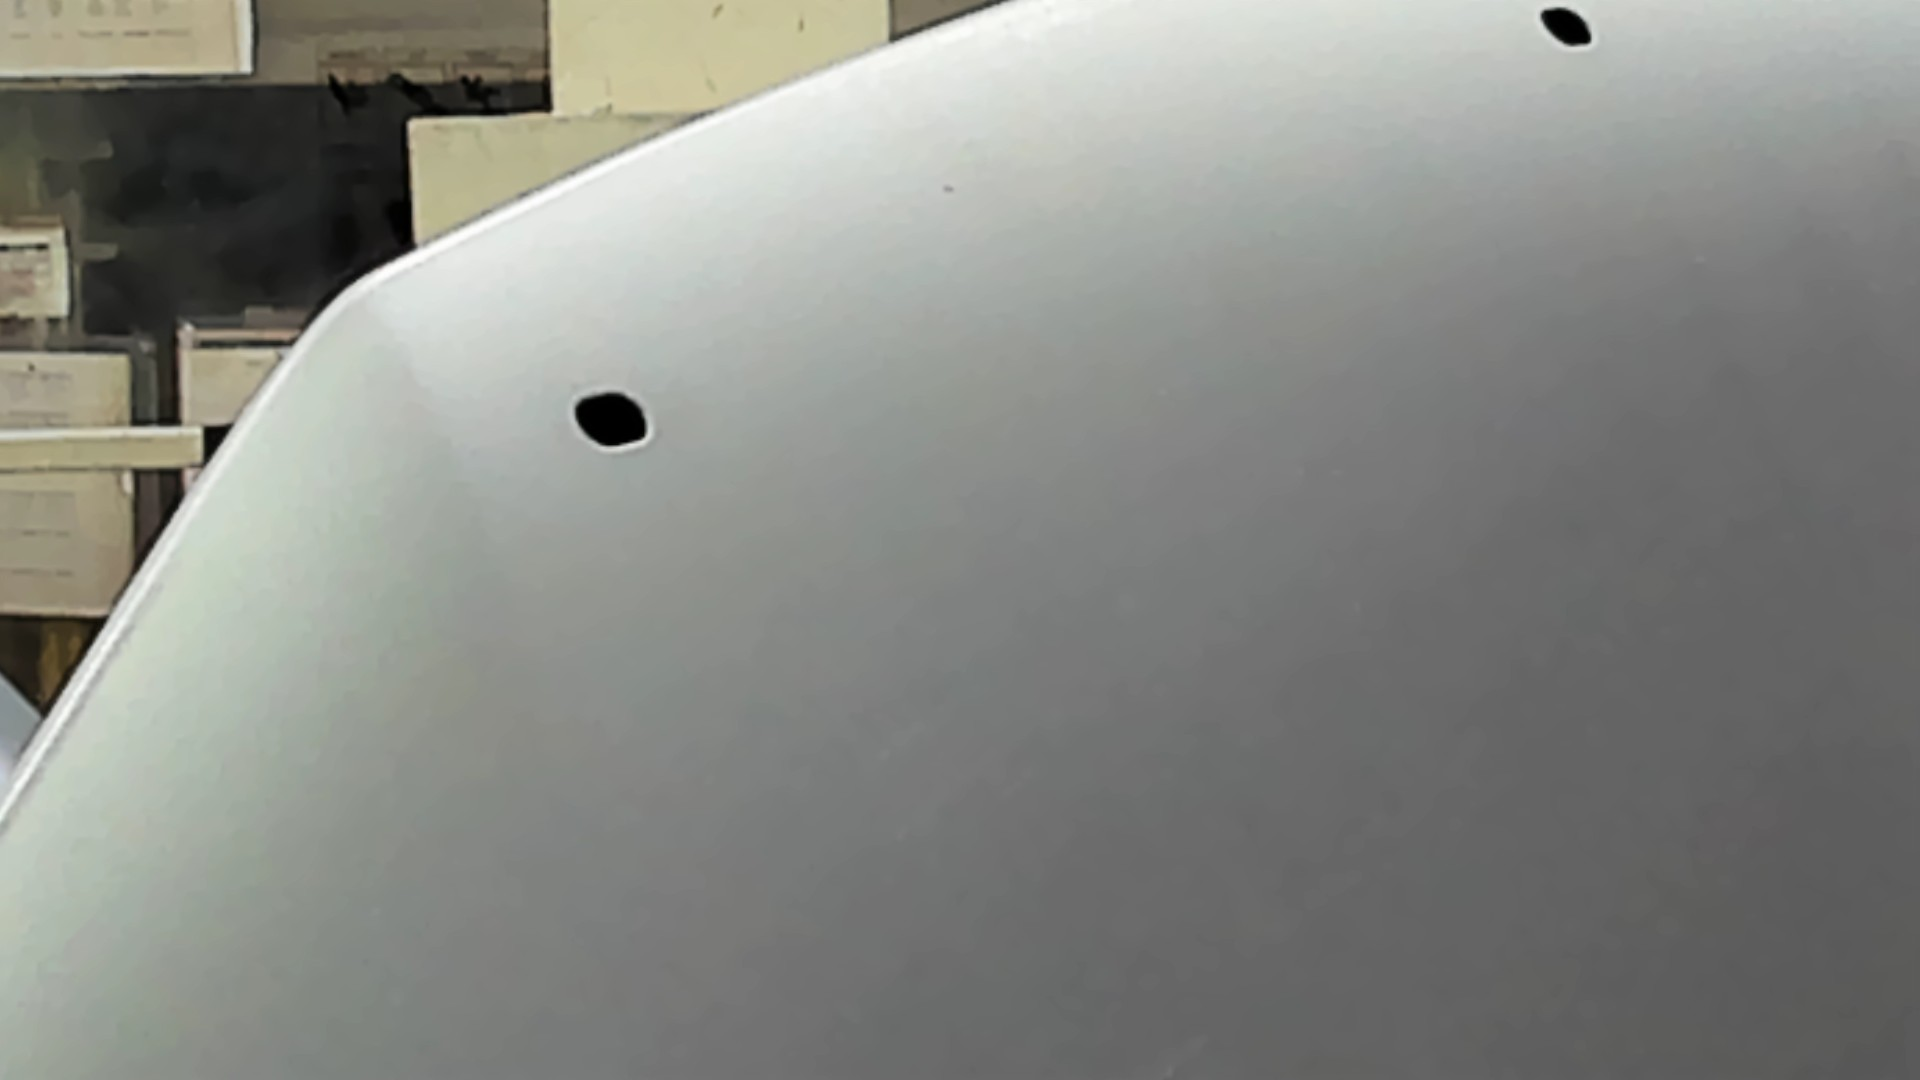amorfo: (567, 386, 653, 454), (1538, 4, 1597, 47)
